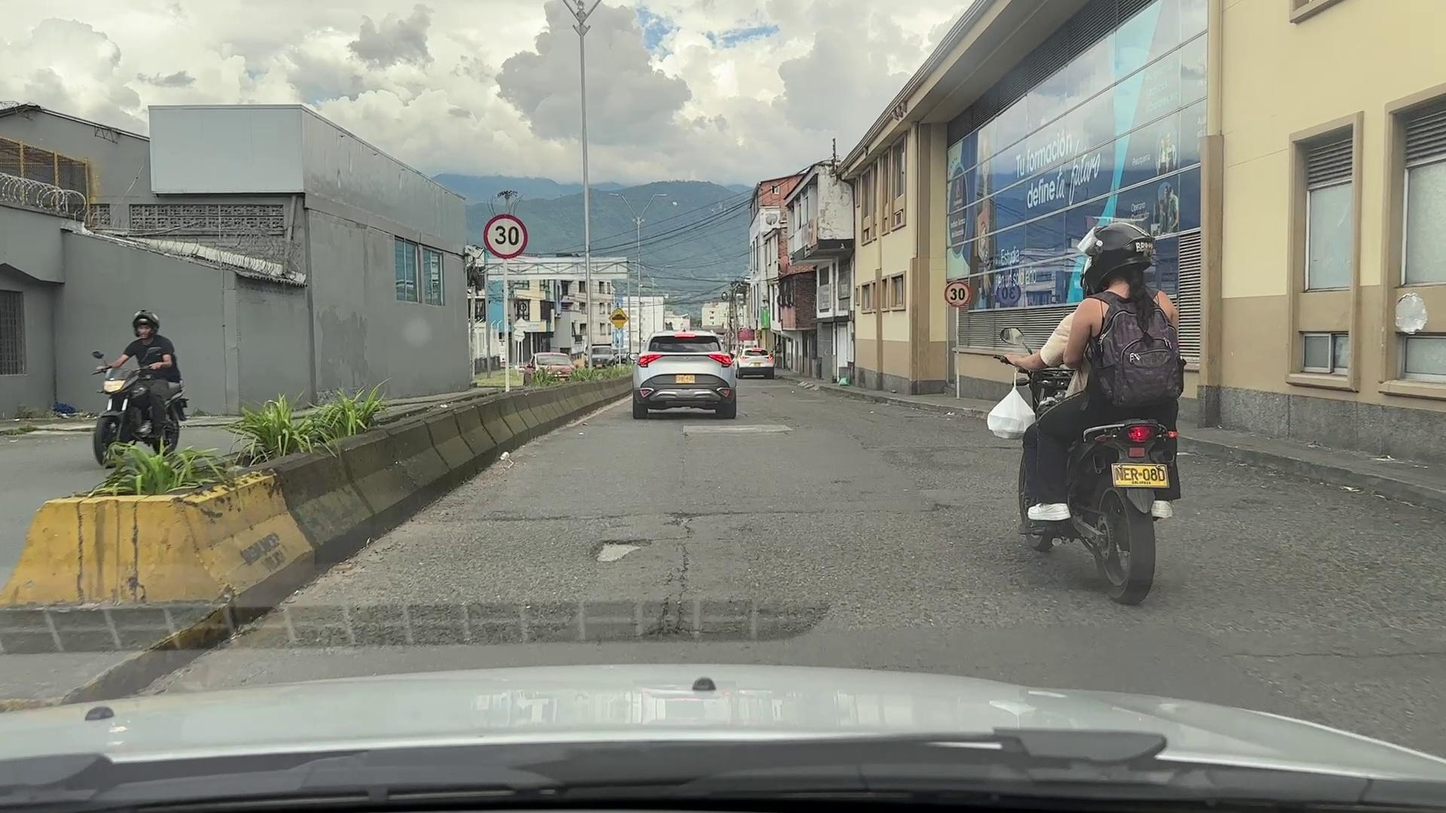bache: (598, 544, 639, 561)
grieta: (645, 544, 716, 637), (663, 510, 754, 534)
registro: (720, 427, 759, 431)
